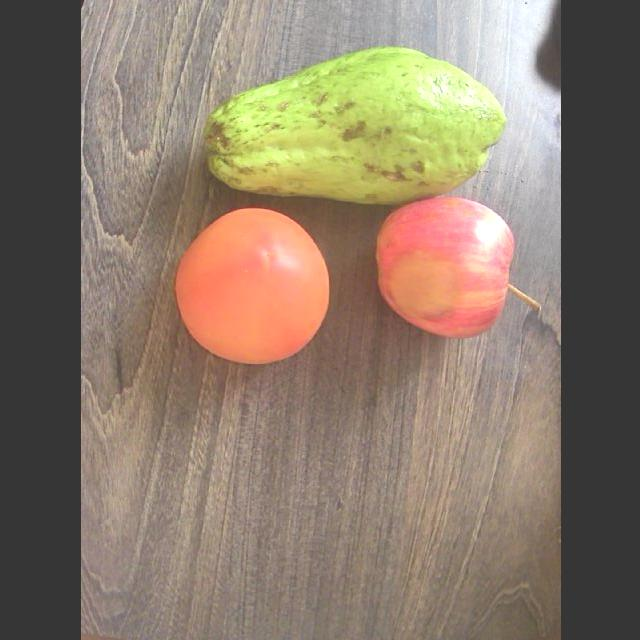chayote: (207, 47, 505, 205)
manzana: (377, 197, 539, 338)
tomate: (175, 210, 328, 363)
